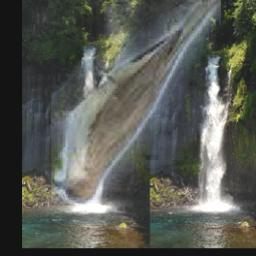Cuckoo: (50, 0, 220, 204)
